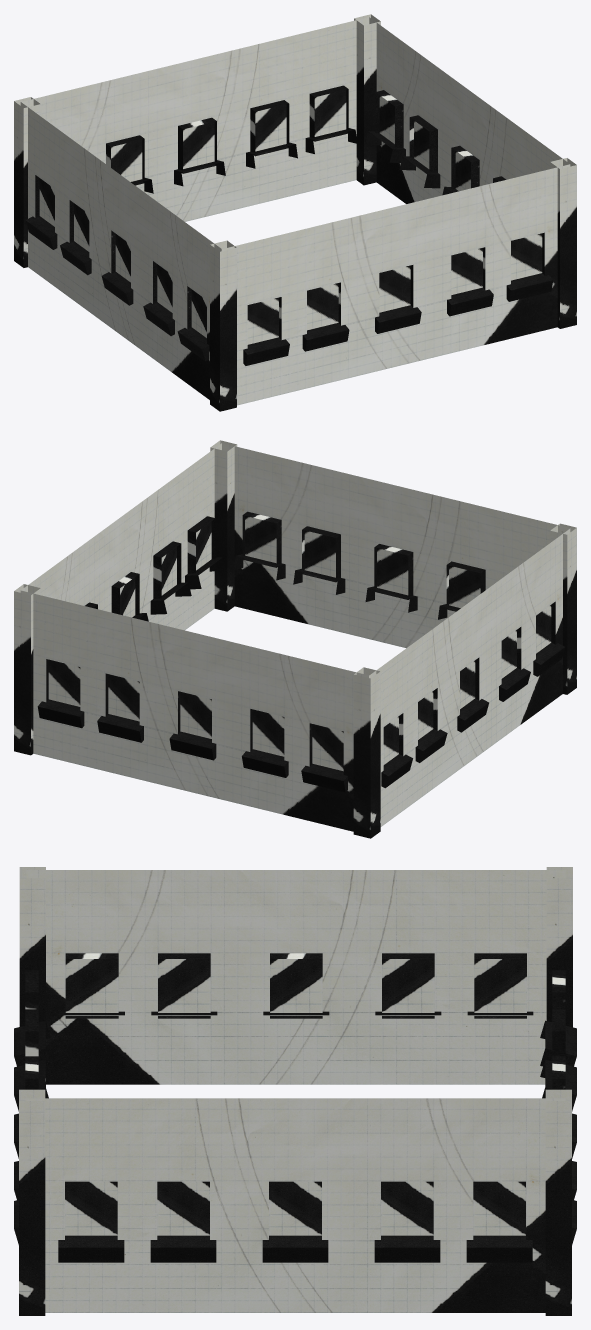
Rendered from buildingfloor.fbx.
3 renders of one model, top to bottom at view 1: azimuth 30°, elevation 25°; view 2: azimuth 150°, elevation 25°; view 3: azimuth 270°, elevation 25°, orthographic. The views are drawn at different scales.
Visible parts, largest first — view 1: Plane.002; view 2: Plane.002; view 3: Plane.002.
Boxes of the visible parts, box(x1,y1,x2,y2) form: Plane.002: box(14, 14, 576, 411); Plane.002: box(14, 440, 576, 838); Plane.002: box(14, 867, 576, 1315).
Bounding box in the file's own units: 4274 × 1800 × 4274.
